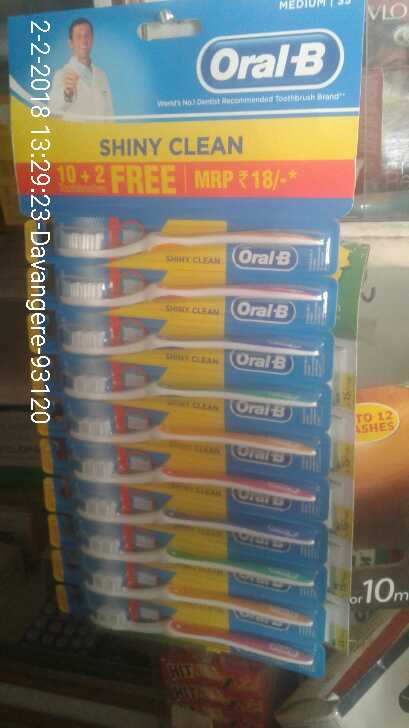oralb: (81, 599, 316, 676), (58, 491, 320, 559), (47, 213, 330, 274), (54, 449, 326, 512), (68, 526, 320, 594), (74, 568, 325, 634), (50, 366, 332, 421), (50, 268, 321, 324), (49, 407, 322, 461), (51, 318, 324, 371)
